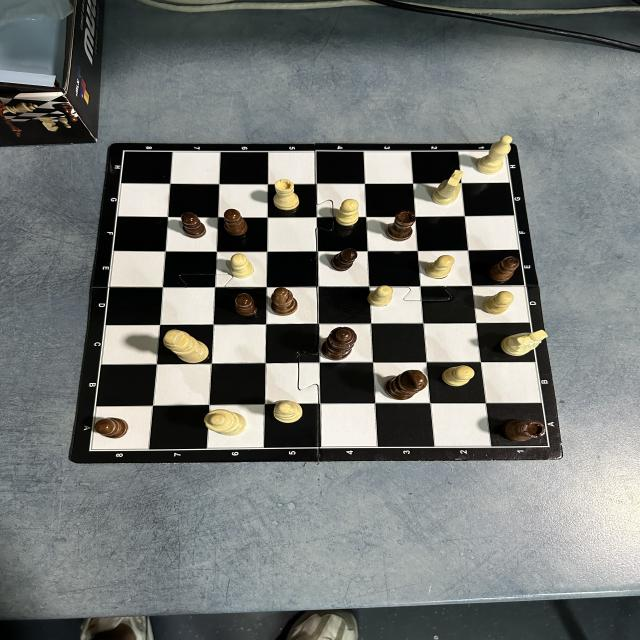Black-Bishop: (271, 286, 298, 316)
Black-King: (385, 370, 427, 400)
Black-Pawn: (488, 256, 519, 282), (95, 417, 128, 438), (224, 208, 247, 236), (181, 213, 206, 238), (332, 248, 357, 271), (236, 293, 258, 317)
Black-Queen: (322, 327, 356, 360)
Black-Rook: (504, 419, 546, 441), (387, 211, 416, 241)
White-Bishop: (477, 135, 512, 174), (274, 400, 302, 423)
White-King: (164, 329, 208, 363)
White-Knight: (501, 330, 548, 356), (432, 170, 464, 205)
White-Pawn: (484, 291, 514, 314), (426, 255, 455, 278), (442, 366, 475, 386), (336, 199, 358, 226), (230, 253, 253, 278), (368, 286, 394, 306)
White-Queen: (204, 409, 246, 436)
White-Rook: (273, 179, 300, 210)
